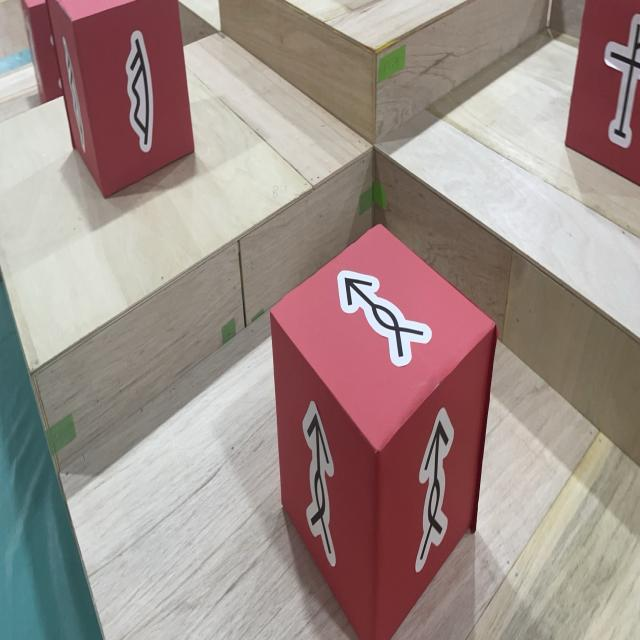11: (126, 29, 154, 154), (62, 36, 86, 154)
12: (338, 271, 432, 369), (414, 406, 455, 573), (302, 400, 337, 568)
9: (604, 14, 640, 148)
fighter: (270, 224, 499, 640), (47, 0, 195, 198), (565, 0, 640, 189), (20, 0, 63, 105)
